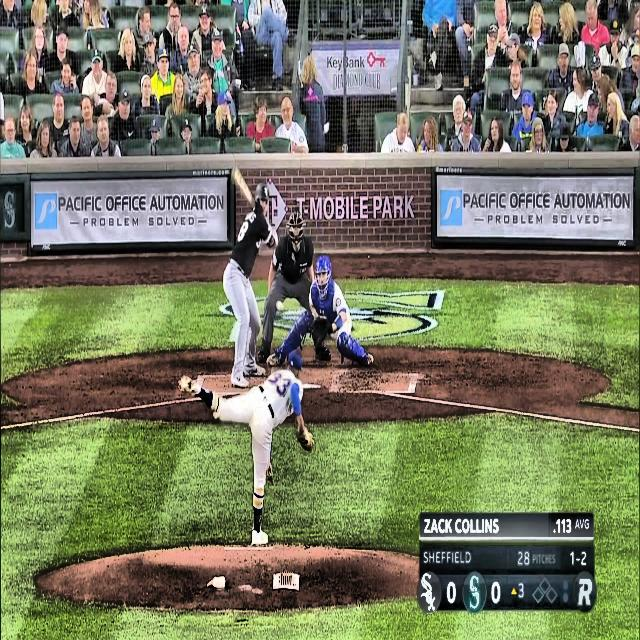baseball: (275, 299, 284, 313)
